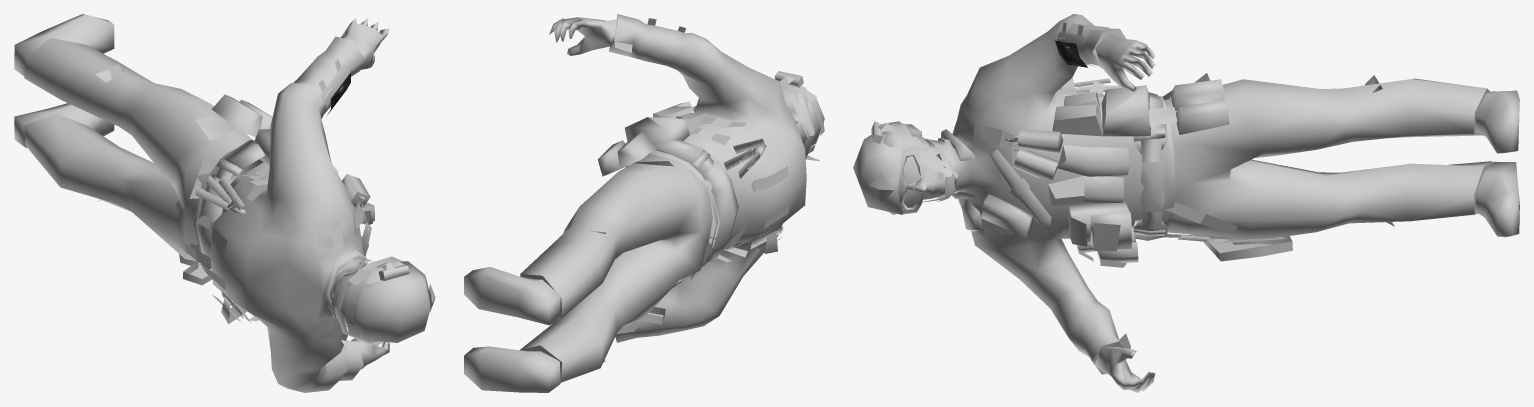
File: c_mul_mp_pmc_assault_fb_LOD2.obj
3 views of the same model, side by side, from view 1: azimuth 30°, elevation 25°; view 2: azimuth 150°, elevation 25°; view 3: azimuth 270°, elevation 25° (orthographic). The views are drawn at different scales.
Visible parts, largest first — view 1: mtl_c_mul_mp_pmc_upperbody1, mtl_c_mul_mp_pmc_lbr, mtl_c_mul_mp_pmc_gear_main_1, mtl_c_mul_mp_pmc_helmet1, mtl_c_mul_mp_pmc_gloves1, mtl_c_mul_mp_pmc_ass_gear; view 2: mtl_c_mul_mp_pmc_lbr, mtl_c_mul_mp_pmc_upperbody1, mtl_c_mul_mp_pmc_gear_main_1, mtl_c_mul_mp_pmc_helmet1, mtl_c_mul_mp_pmc_gloves1, mtl_c_mul_mp_pmc_ass_gear; view 3: mtl_c_mul_mp_pmc_lbr, mtl_c_mul_mp_pmc_upperbody1, mtl_c_mul_mp_pmc_gear_main_1, mtl_c_mul_mp_pmc_helmet1, mtl_c_mul_mp_pmc_ass_gear, mtl_c_mul_mp_pmc_gloves1, mtl_c_mul_mp_pmc_head_1, mtl_c_mul_mp_pmc_glasses.
Part boxes in pixels (<box>): mtl_c_mul_mp_pmc_upperbody1: <box>184,36,367,392</box>; mtl_c_mul_mp_pmc_lbr: <box>24,38,263,269</box>; mtl_c_mul_mp_pmc_gear_main_1: <box>14,14,374,323</box>; mtl_c_mul_mp_pmc_helmet1: <box>331,256,435,349</box>; mtl_c_mul_mp_pmc_gloves1: <box>340,18,389,368</box>; mtl_c_mul_mp_pmc_ass_gear: <box>179,254,212,285</box>; mtl_c_mul_mp_pmc_lbr: <box>519,154,713,382</box>; mtl_c_mul_mp_pmc_upperbody1: <box>609,14,806,342</box>; mtl_c_mul_mp_pmc_gear_main_1: <box>464,101,783,392</box>; mtl_c_mul_mp_pmc_helmet1: <box>774,71,824,161</box>; mtl_c_mul_mp_pmc_gloves1: <box>549,17,616,337</box>; mtl_c_mul_mp_pmc_ass_gear: <box>617,307,665,333</box>; mtl_c_mul_mp_pmc_lbr: <box>1162,73,1492,241</box>; mtl_c_mul_mp_pmc_upperbody1: <box>938,14,1175,374</box>; mtl_c_mul_mp_pmc_gear_main_1: <box>940,78,1519,267</box>; mtl_c_mul_mp_pmc_helmet1: <box>853,121,958,214</box>; mtl_c_mul_mp_pmc_ass_gear: <box>1048,145,1292,261</box>; mtl_c_mul_mp_pmc_gloves1: <box>1095,32,1155,392</box>; mtl_c_mul_mp_pmc_head_1: <box>903,133,956,199</box>; mtl_c_mul_mp_pmc_glasses: <box>903,156,921,207</box>.
Size of the model in its own units: 67.53 by 106 by 185.
